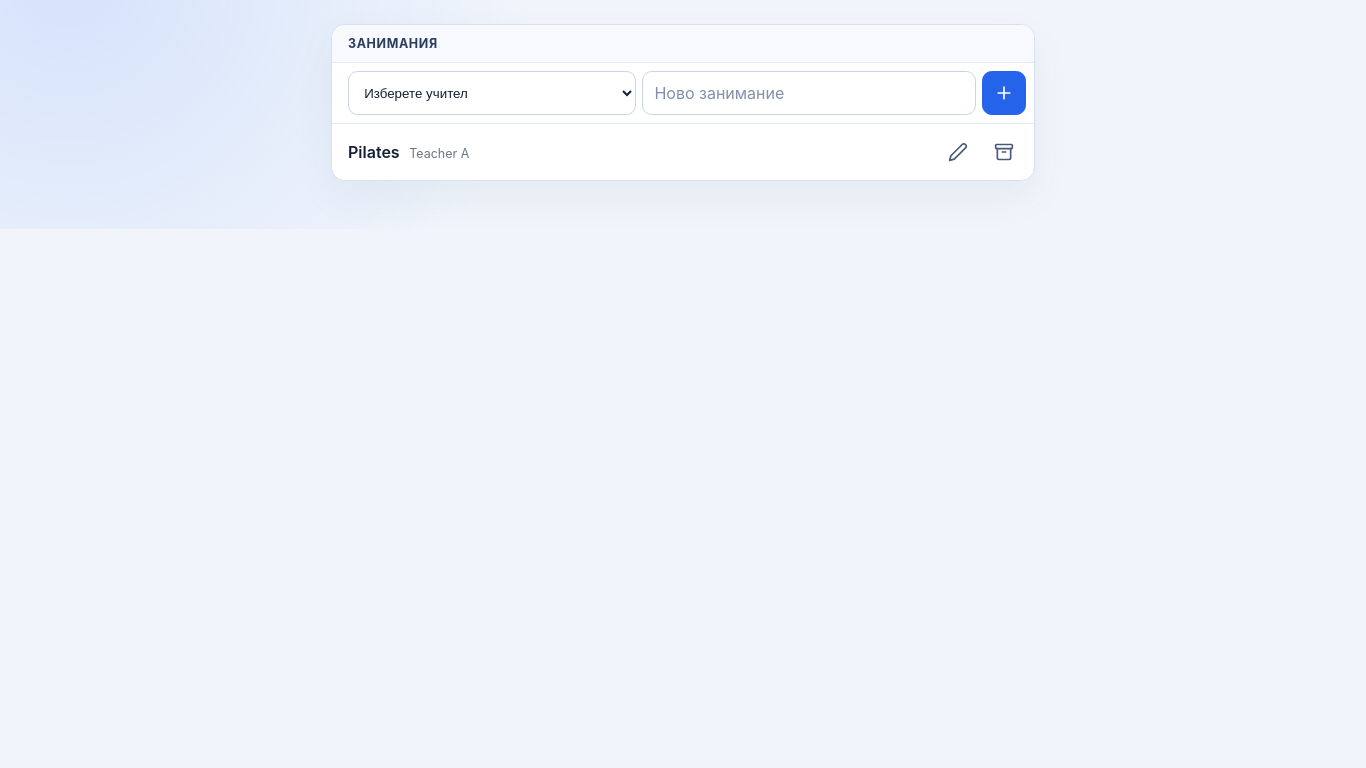
Classes screen › refreshes through a stable handle without resetting class form, owner, dialog, or notice state
Expected: the text "Pilates" is shown, [348,142,400,162]
Select "Teacher B" in the dropdown named "Отговорен учител" at (492, 93), box [348,71,636,115]
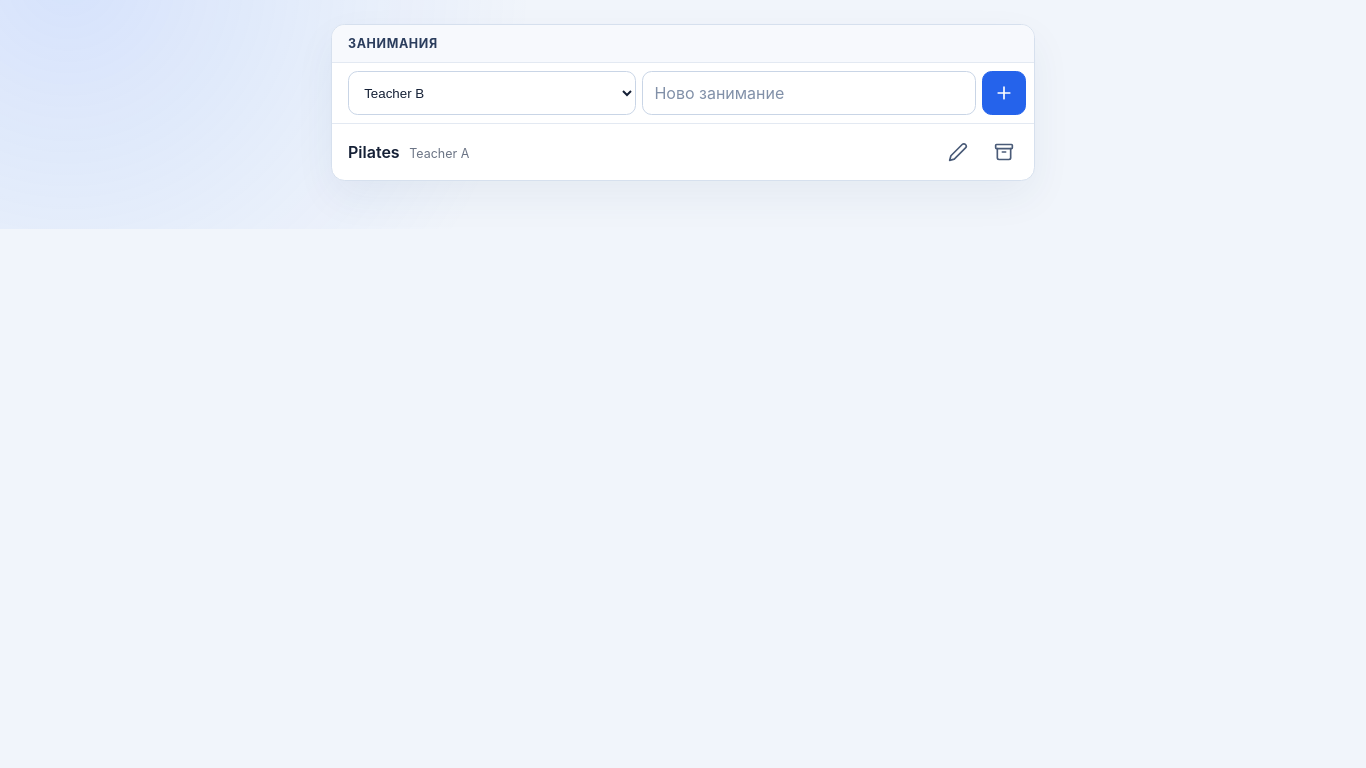
Type "Draft text" into the field named "Име на заниманието" at (809, 93), box [642,71,976,115]
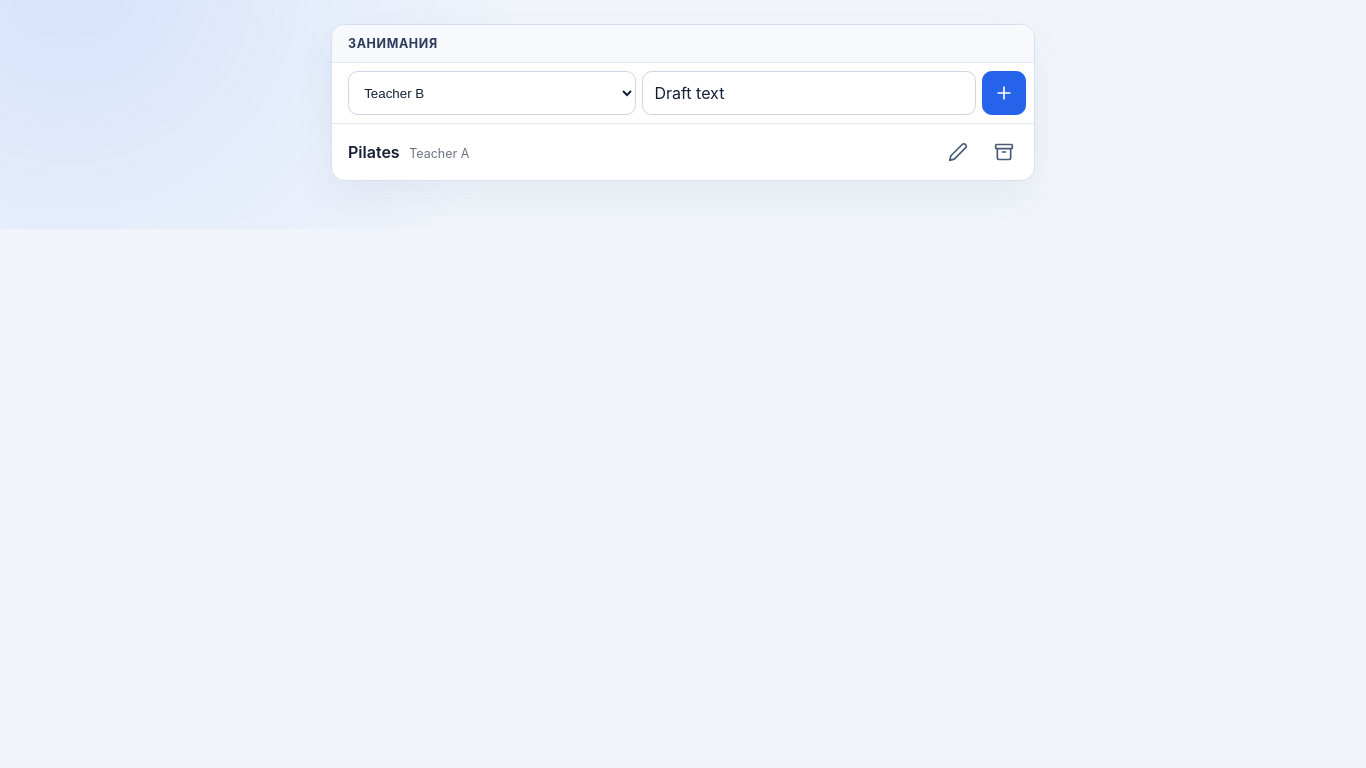
Click the button named "Добави занимание" at (1004, 93), box [982,71,1026,115]
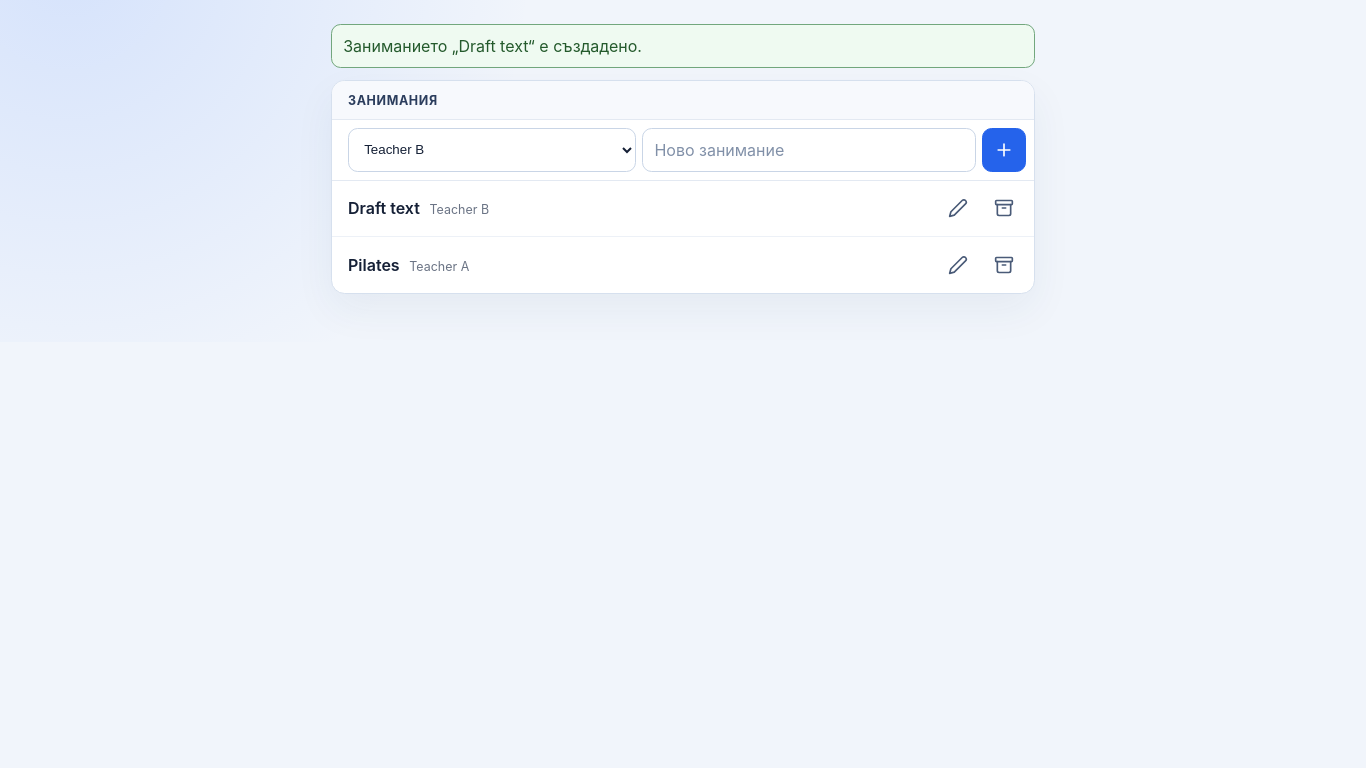
Result: the text "Draft text" is shown at [348,198,420,218]
Type "Keep this text" into the field named "Име на заниманието" at (809, 150), box [642,128,976,172]
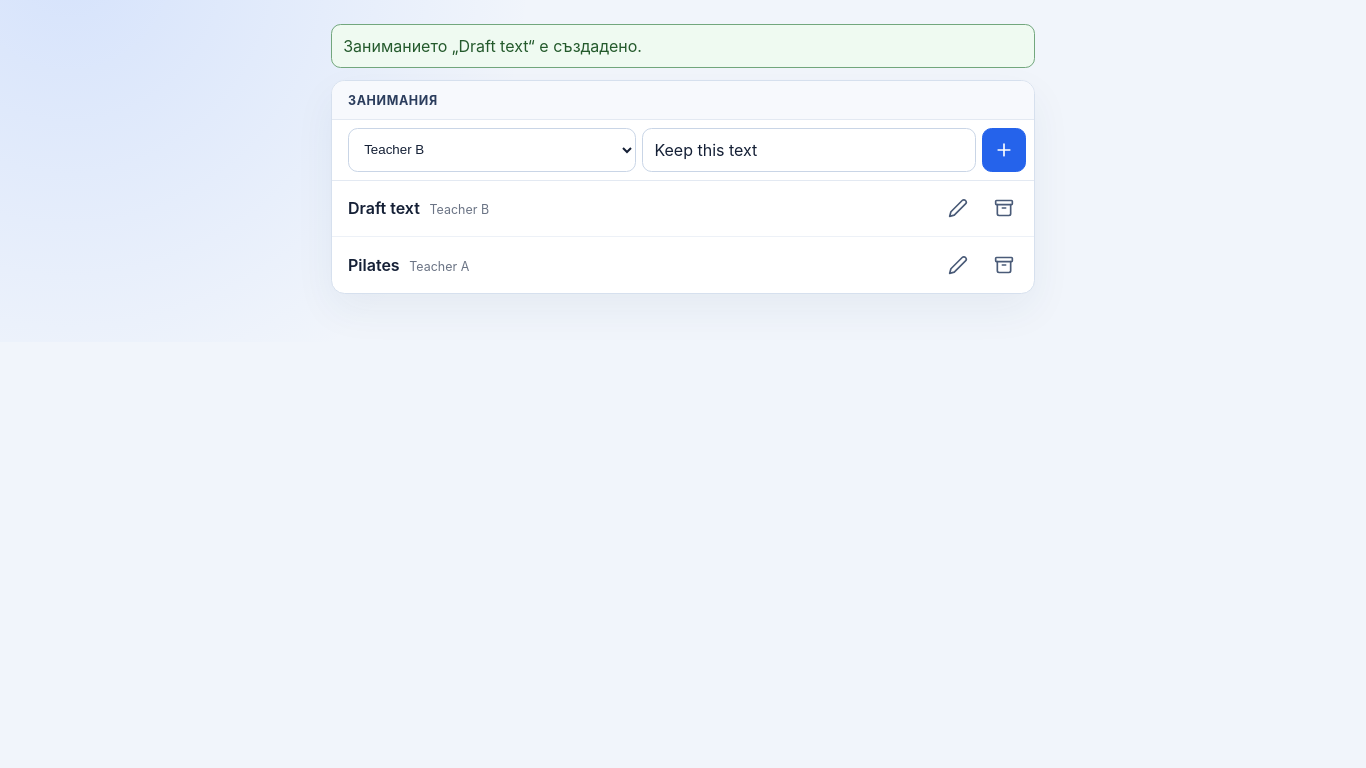
Click the button named "Архивирай Pilates" at (1004, 265), box [982,243,1026,287]
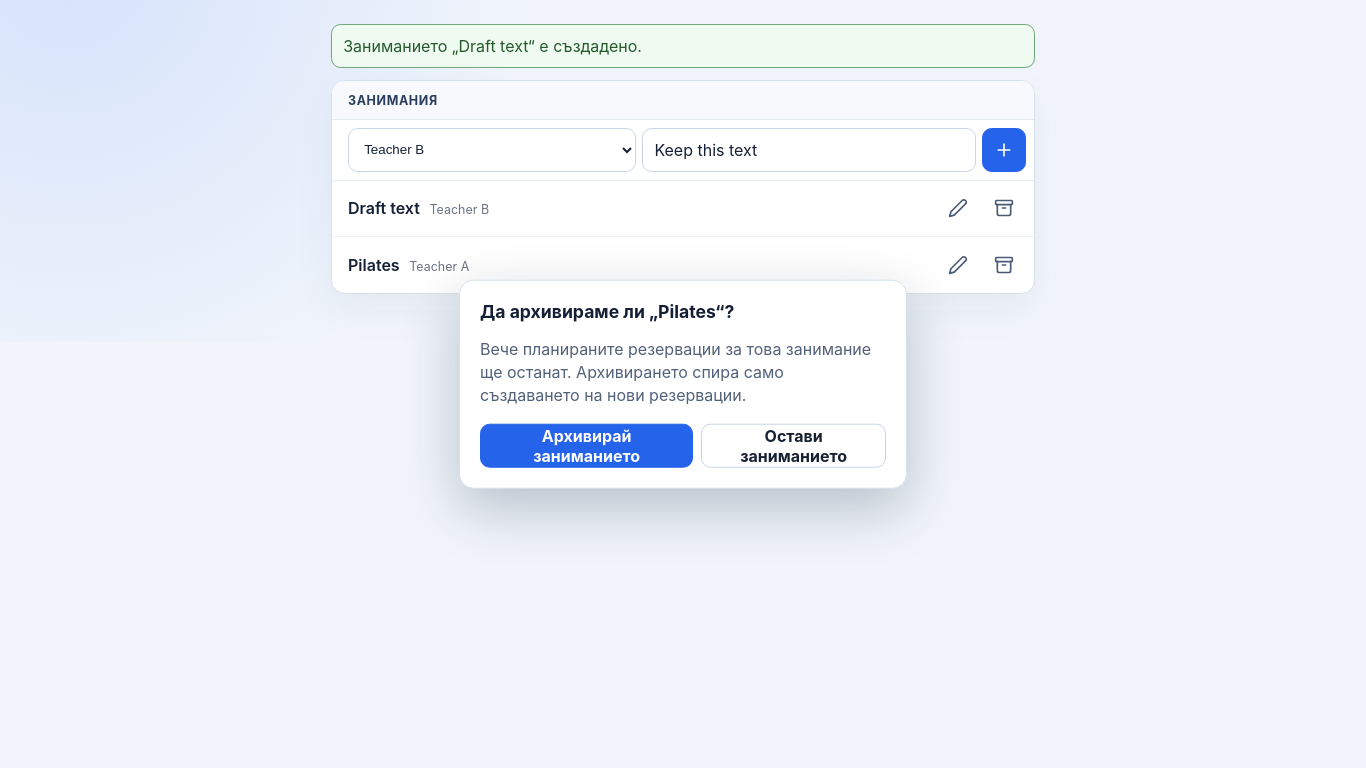
Result: the message reads "Заниманието „Draft text“ е създадено." at [343,36,642,56]
Result: the dialog is shown at [459,280,907,488]
